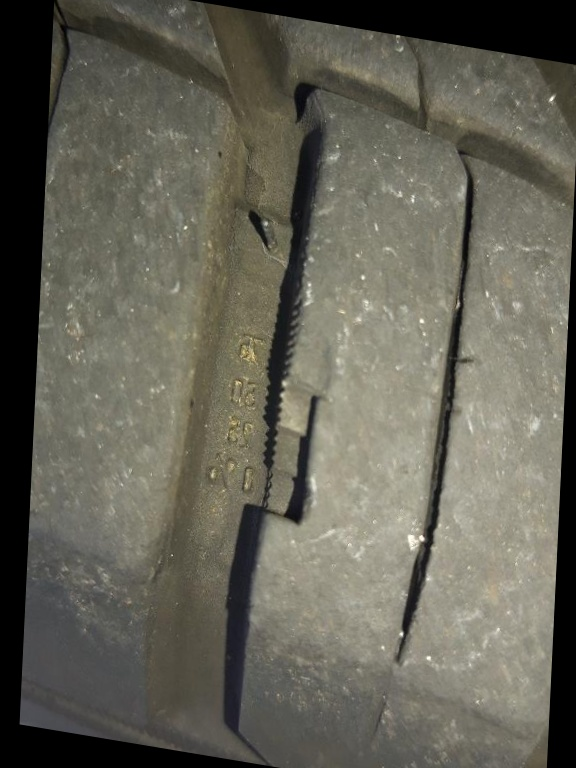temoin:80: (251, 283, 341, 551)
